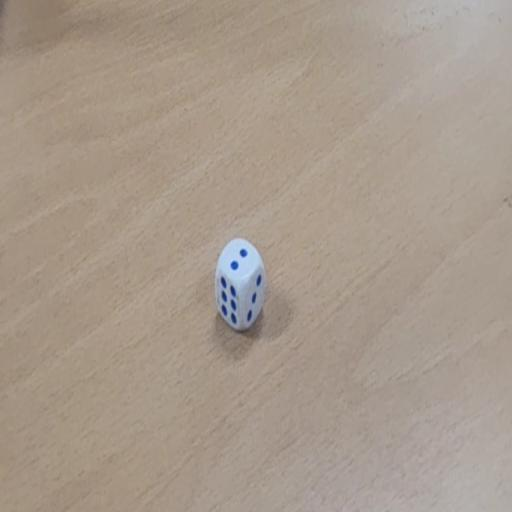dice_2: (214, 236, 267, 335)
